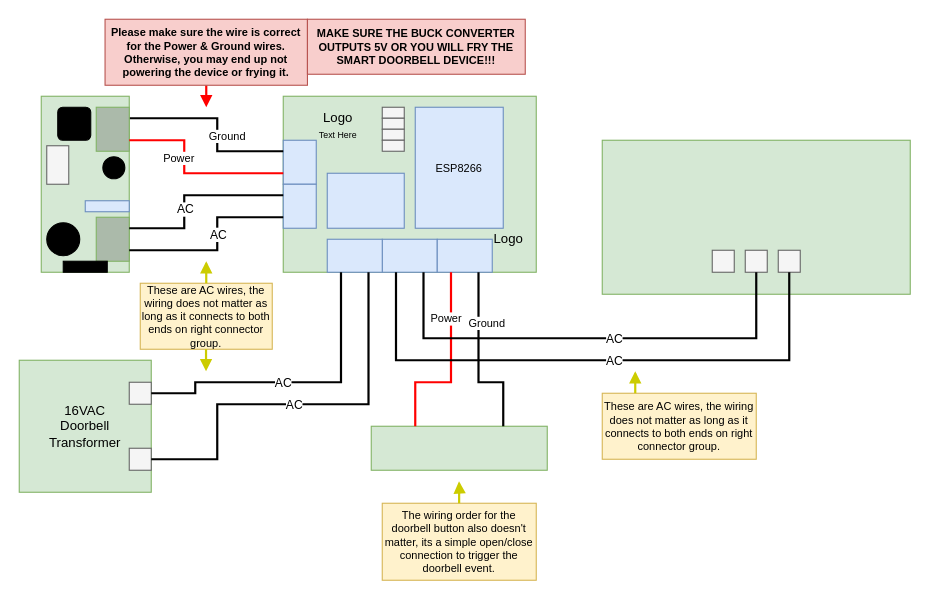
The diagram is 930 pixels wide and 600 high, and some of its shapes have lost their labels. The shapes that lost their labels are listed below. From the top down, each one's box as (x1, y1, x2, y2) in pixels, then its label:
(40, 95, 129, 272): Buck Converter
(326, 172, 404, 228): Relay
(601, 139, 910, 294): Doorbell Chime
(370, 425, 547, 470): Doorbell Button
